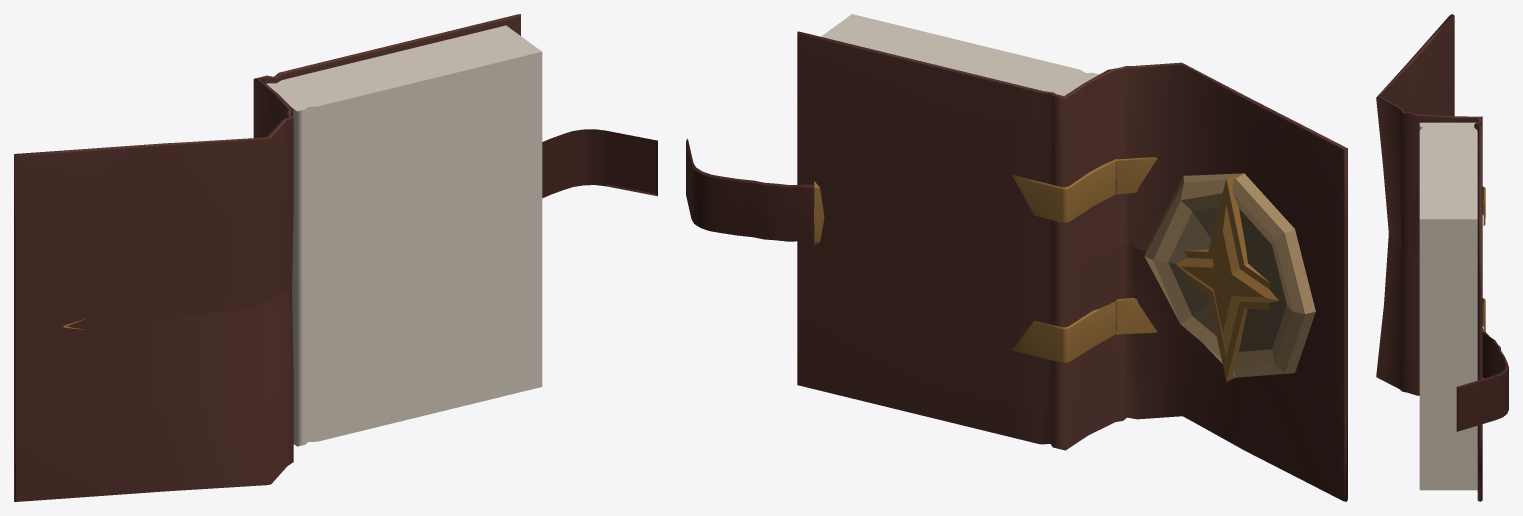
File: book-open.fbx
3 views of the same model, side by side, from view 1: azimuth 30°, elevation 25°; view 2: azimuth 150°, elevation 25°; view 3: azimuth 270°, elevation 25° (orthographic). The views are drawn at different scales.
Parts seen in each view (by area): view 1: book_open; view 2: book_open; view 3: book_open.
Part boxes in pixels (x1,y1,x2,y2): book_open: (14,14,657,501); book_open: (686,14,1347,501); book_open: (1376,14,1508,501).
Size of the model in its own units: 0.1957 by 0.1007 by 0.0431.
